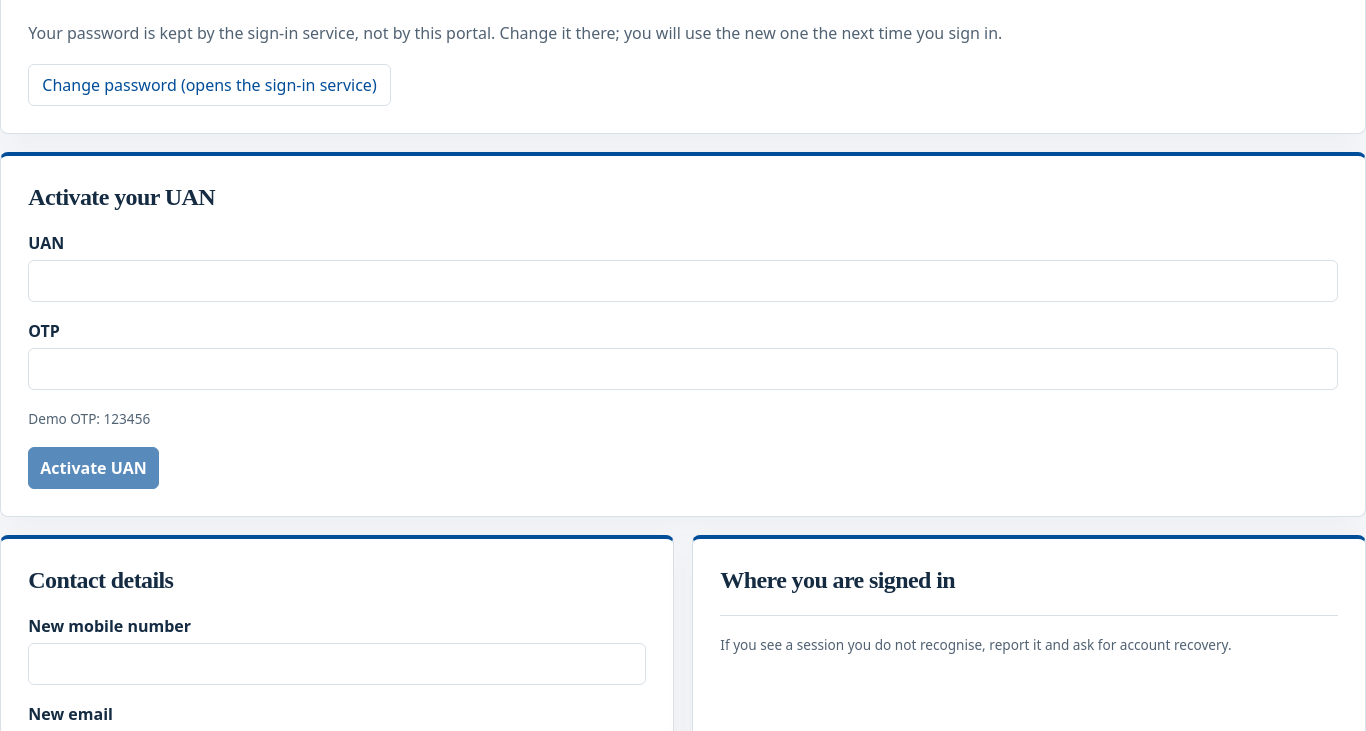
Scenario: shows the activation 409 problem
(page scrolled)
Expected: the field labelled "UAN" is shown, [28,260,1338,302]
Type "123456" into the field labelled "OTP".
click(683, 369); type("123456")  # box [28,348,1338,390]
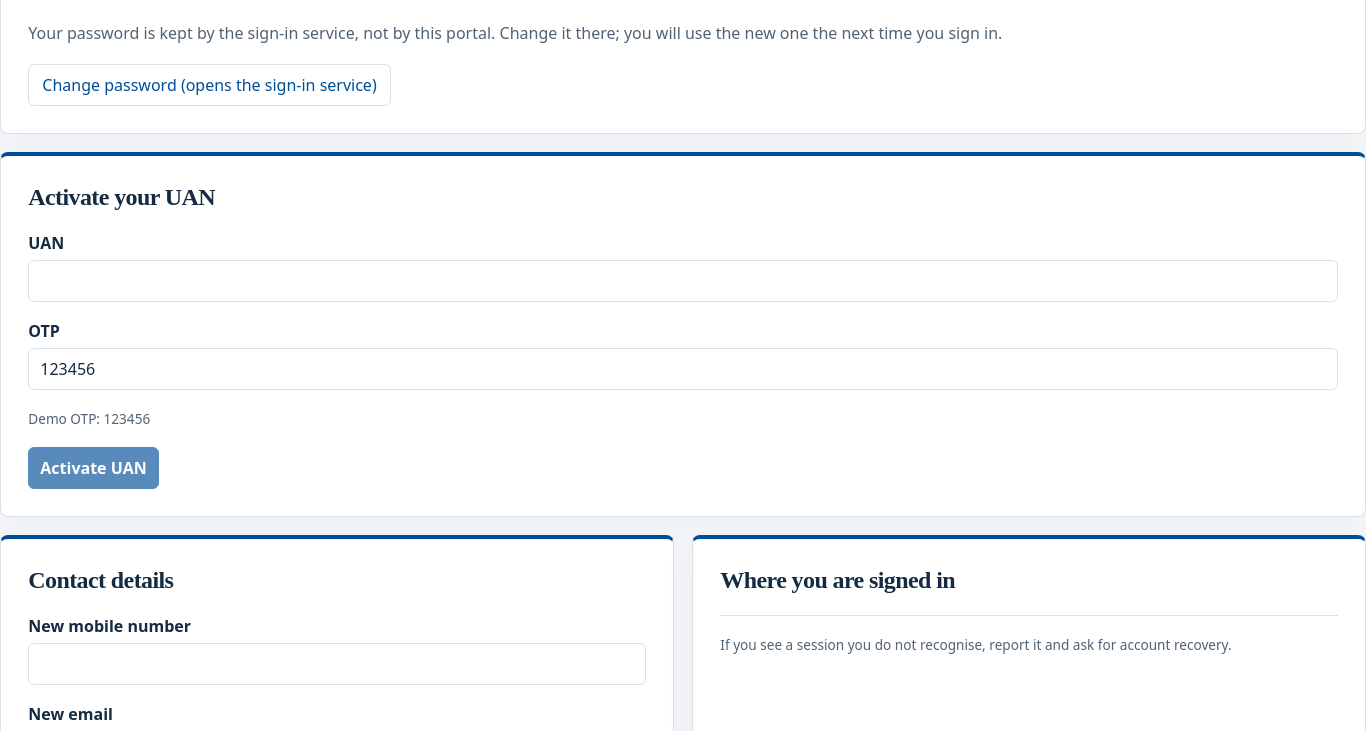
Submit the form "Activate UAN", box [0,152,1365,517]
(page scrolled)
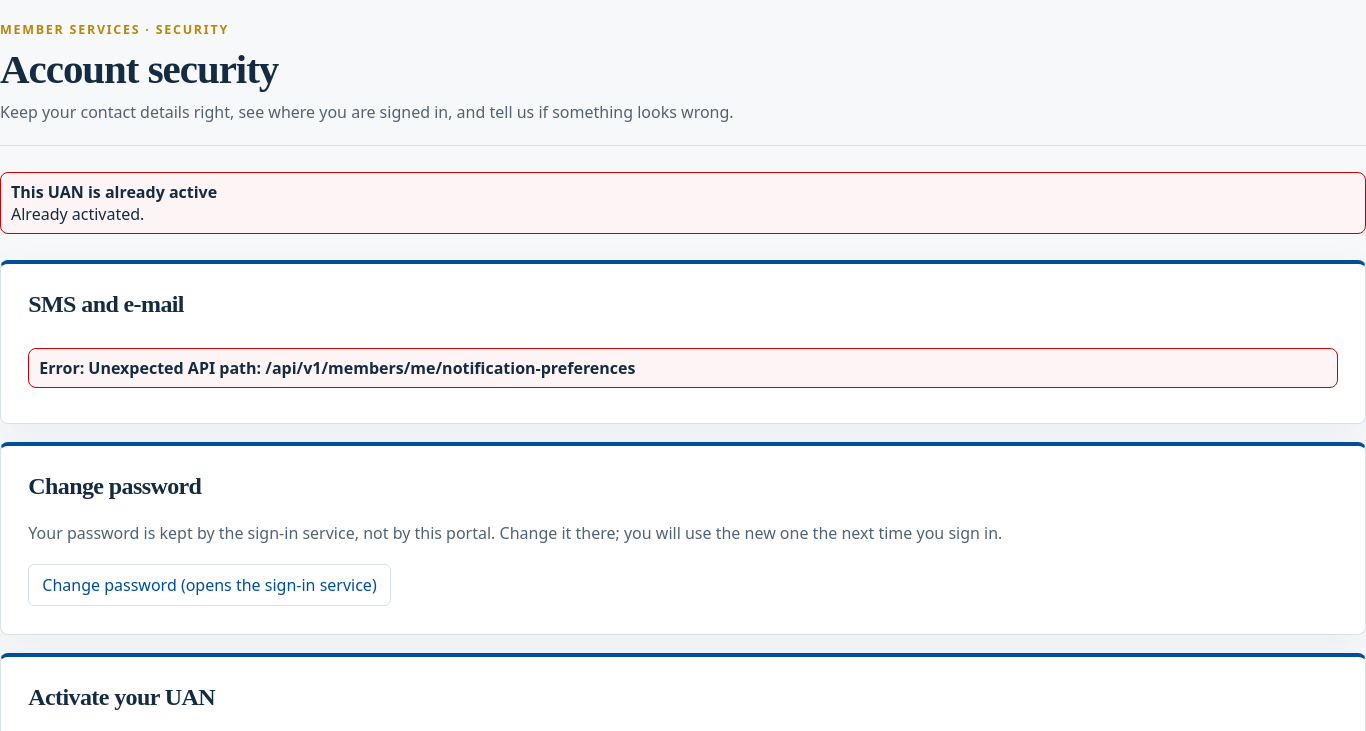
Expected: the text "Already activated." is shown, [11,203,144,225]
